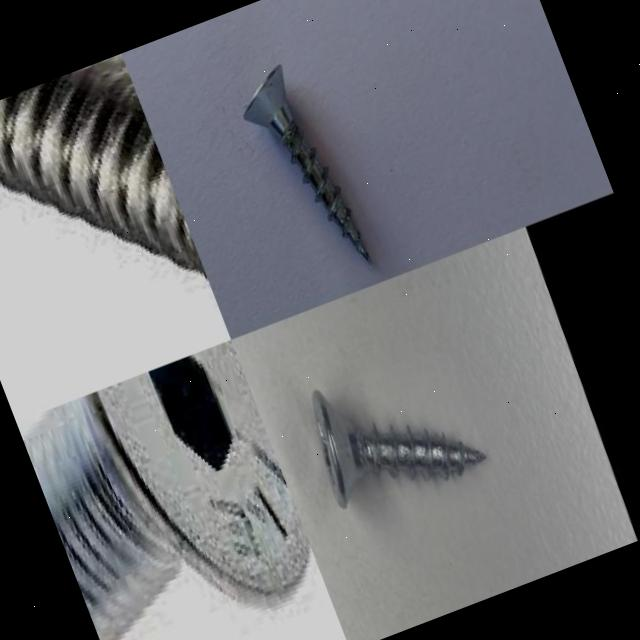Screw: (23, 340, 311, 640), (0, 53, 206, 274), (244, 65, 372, 265), (312, 391, 486, 509)
